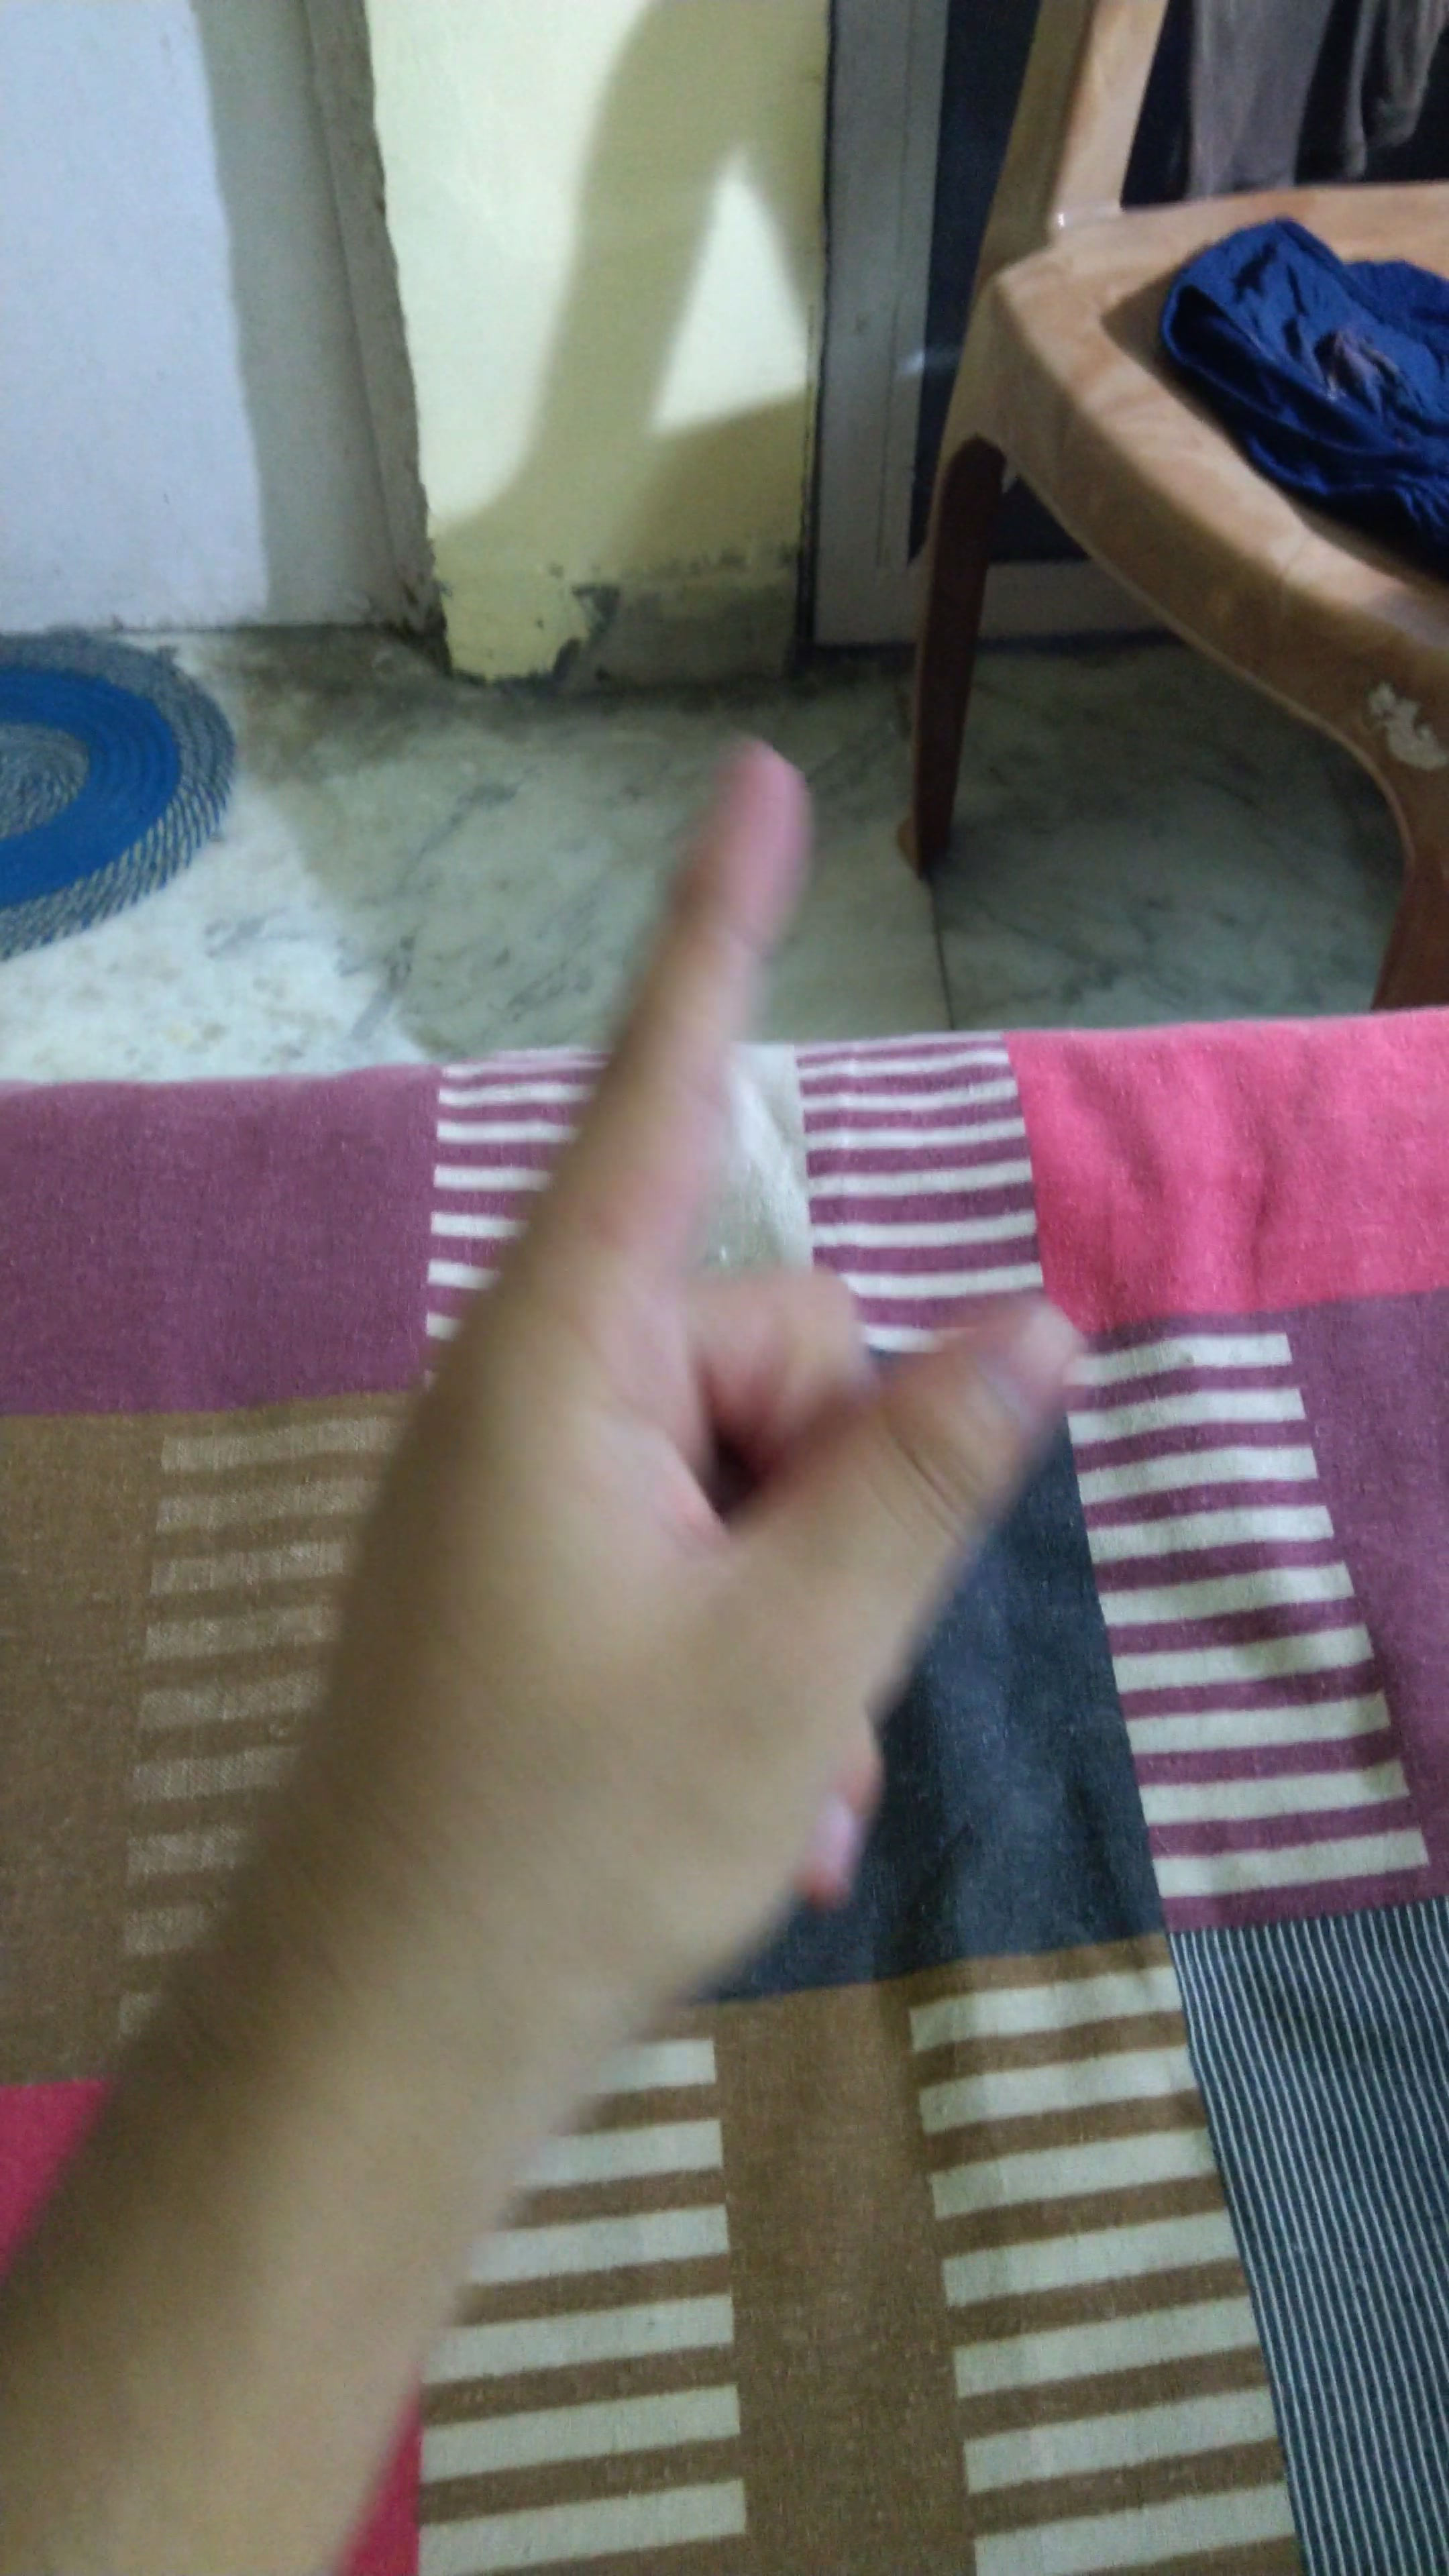hand: (306, 701, 1113, 2068)
